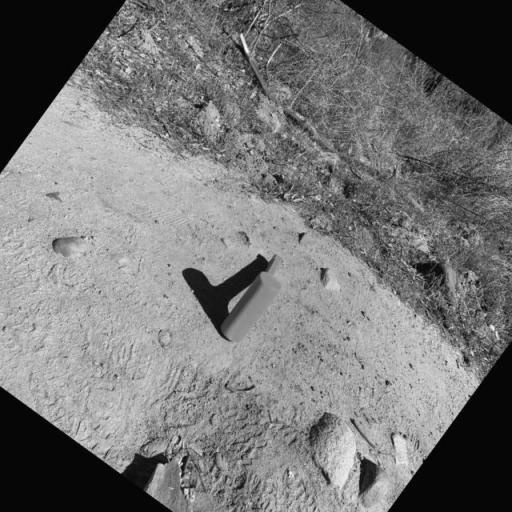mallet: (216, 250, 298, 348)
